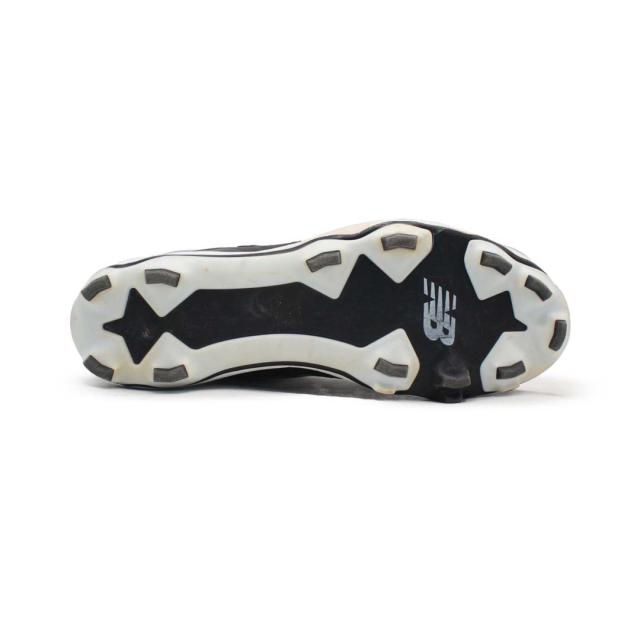outersole: (71, 228, 577, 408)
